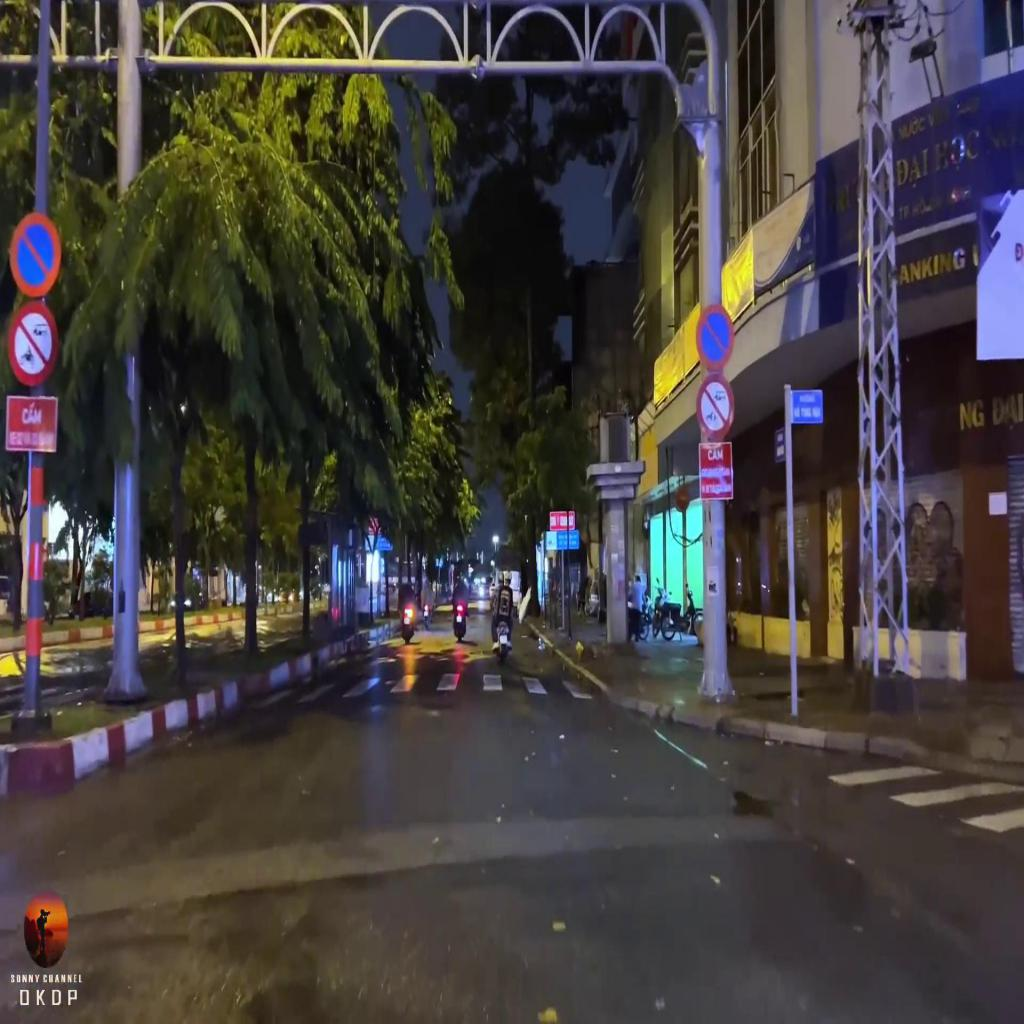cam_cac_loai_xe_3_banh: (696, 373, 735, 442)
cam_dung_xe_va_do_xe: (9, 210, 62, 298), (694, 303, 734, 370)
cam_xe_2_banh_va_xe_3_banh_co_dong_co: (8, 302, 58, 387)
